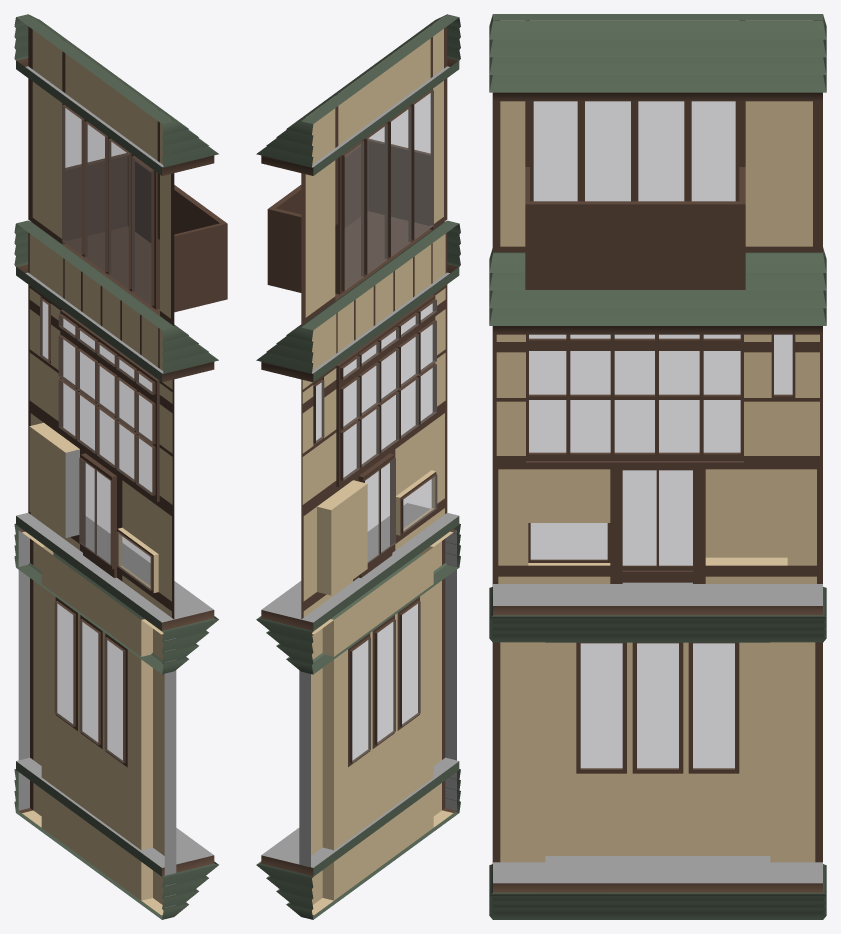
File: SM_Wall_04.fbx
The picture shows the model from 3 angles, left to right: view 1: azimuth 30°, elevation 25°; view 2: azimuth 150°, elevation 25°; view 3: azimuth 270°, elevation 25°; orthographic projection. The views are drawn at different scales.
Visible parts, largest first — view 1: Face_07_Up_01; view 2: Face_07_Up_01; view 3: Face_07_Up_01.
Part boxes in pixels (left/top/right/bottom): Face_07_Up_01: left=14, top=14, right=227, bottom=919; Face_07_Up_01: left=256, top=14, right=460, bottom=919; Face_07_Up_01: left=489, top=14, right=826, bottom=919.
Bounding box in the file's own units: 41.45 × 384 × 130.
